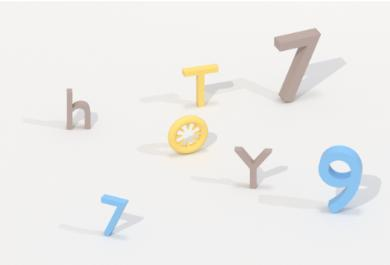0-TronLo: (165, 114, 211, 157)
7: (272, 25, 322, 109), (97, 191, 131, 239)
9: (315, 142, 364, 217)
T: (177, 61, 222, 111)
Y: (232, 142, 276, 193)
h: (62, 84, 96, 135)
